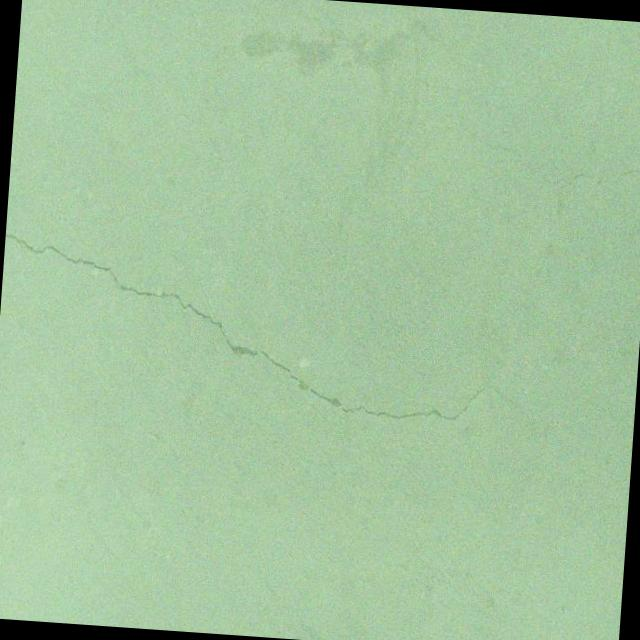crack: (0, 233, 585, 433), (438, 200, 556, 390), (432, 121, 551, 178), (532, 162, 640, 208)
